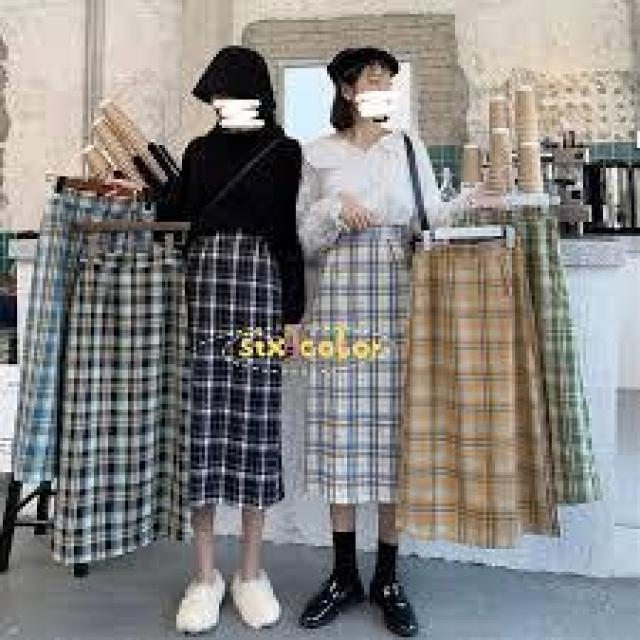skirt: (414, 243, 573, 556), (64, 249, 192, 570), (182, 235, 296, 516), (310, 239, 421, 512)
sweater: (304, 117, 446, 239), (176, 115, 310, 243)
